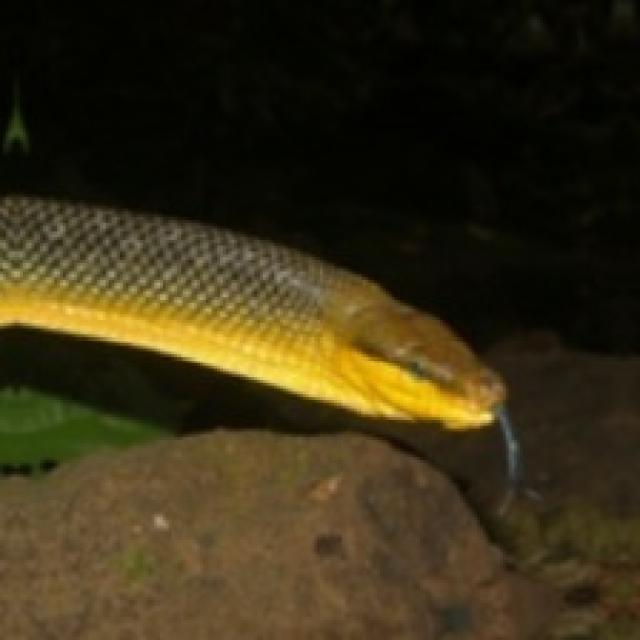red-tailed green ratsnake: (0, 197, 517, 500), (0, 197, 517, 489)
